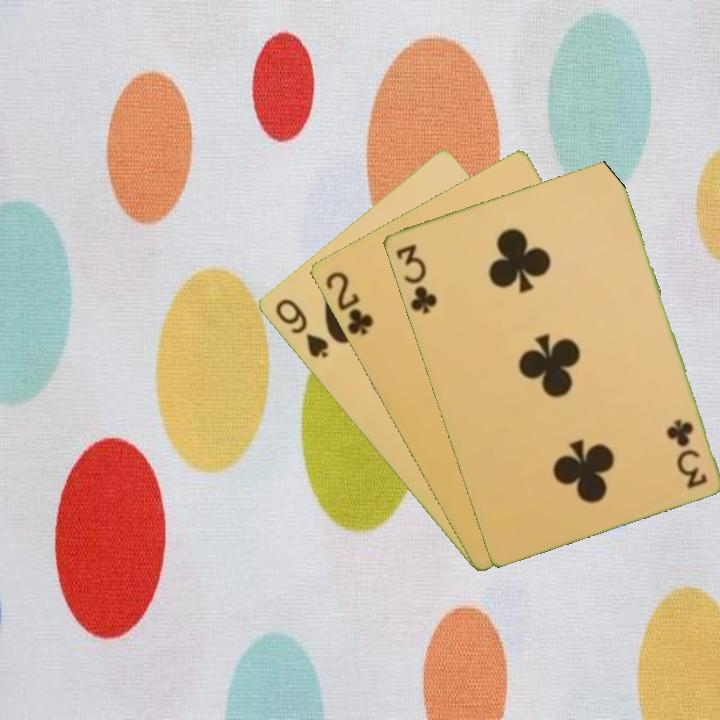2c: (321, 267, 376, 338)
3c: (391, 240, 440, 317), (665, 415, 710, 491)
9s: (271, 295, 331, 361)
